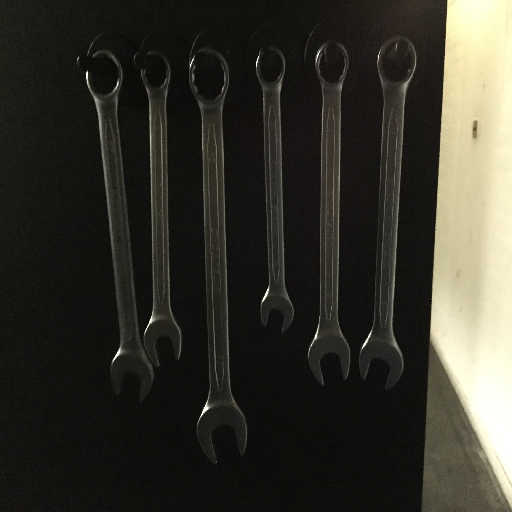bottom: (195, 408, 251, 464), (357, 331, 408, 391), (140, 314, 187, 369), (304, 333, 352, 385), (111, 350, 154, 405), (257, 294, 299, 338)
top: (185, 46, 235, 105), (78, 48, 128, 102), (375, 34, 417, 88), (312, 39, 350, 87), (253, 45, 288, 91), (138, 51, 171, 93)
